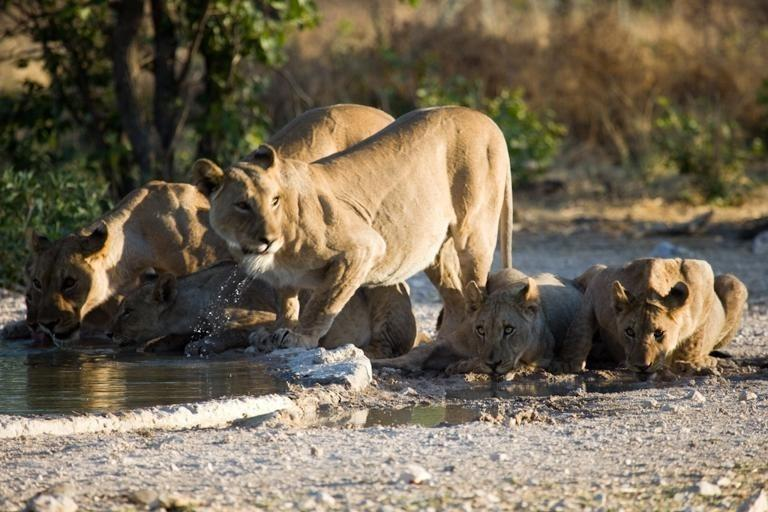lioness: (198, 102, 525, 352), (24, 154, 261, 351), (580, 251, 767, 385), (441, 259, 572, 380)
